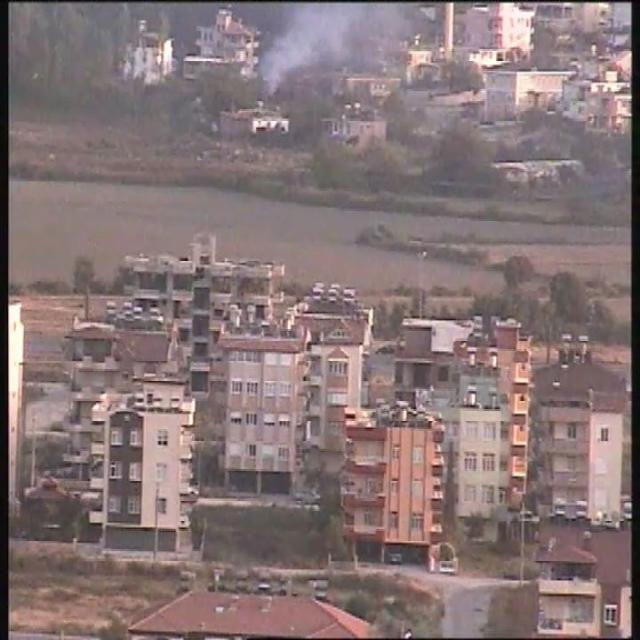smoke: (259, 9, 342, 99)
